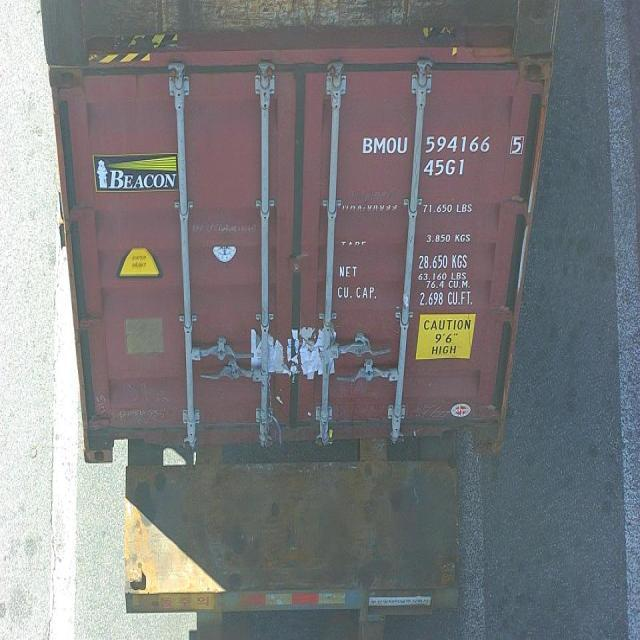ISO: (424, 156, 466, 176)
container_number: (362, 132, 520, 156)
